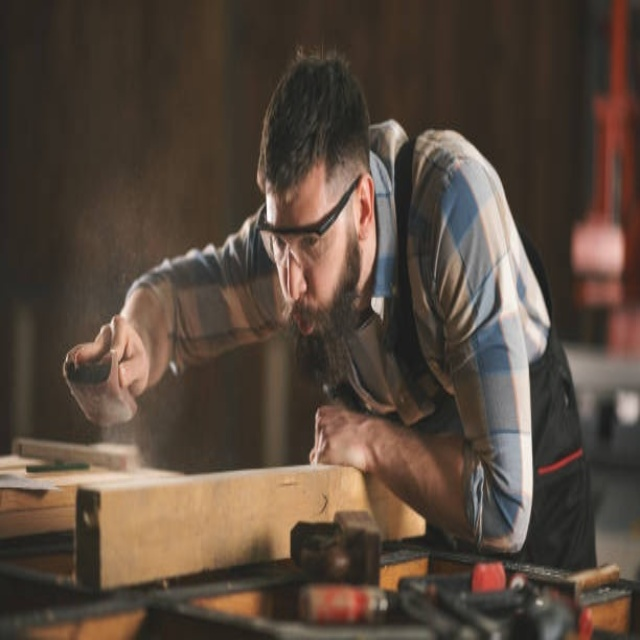Gafas: (258, 174, 362, 264)
Sin_guantes: (63, 321, 142, 428), (308, 400, 377, 476)
Sin_mascara: (279, 283, 327, 340)
